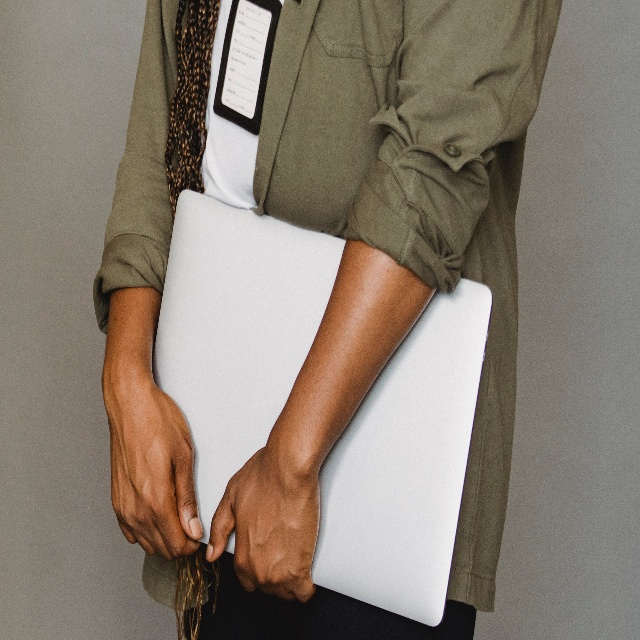Sin_guantes: (205, 441, 320, 602), (102, 378, 202, 561)
